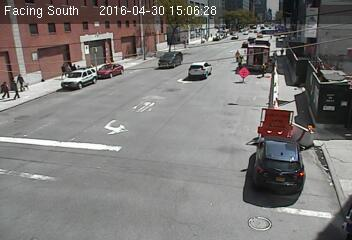neg: (293, 120, 315, 150), (251, 58, 272, 87), (315, 67, 335, 94), (150, 31, 168, 54), (335, 36, 351, 60), (35, 85, 50, 105), (4, 105, 19, 124), (293, 38, 305, 54), (106, 56, 116, 69), (134, 40, 143, 51), (52, 41, 58, 50)
pos: (7, 80, 22, 100), (14, 72, 29, 91), (58, 63, 69, 79), (234, 48, 245, 63)
